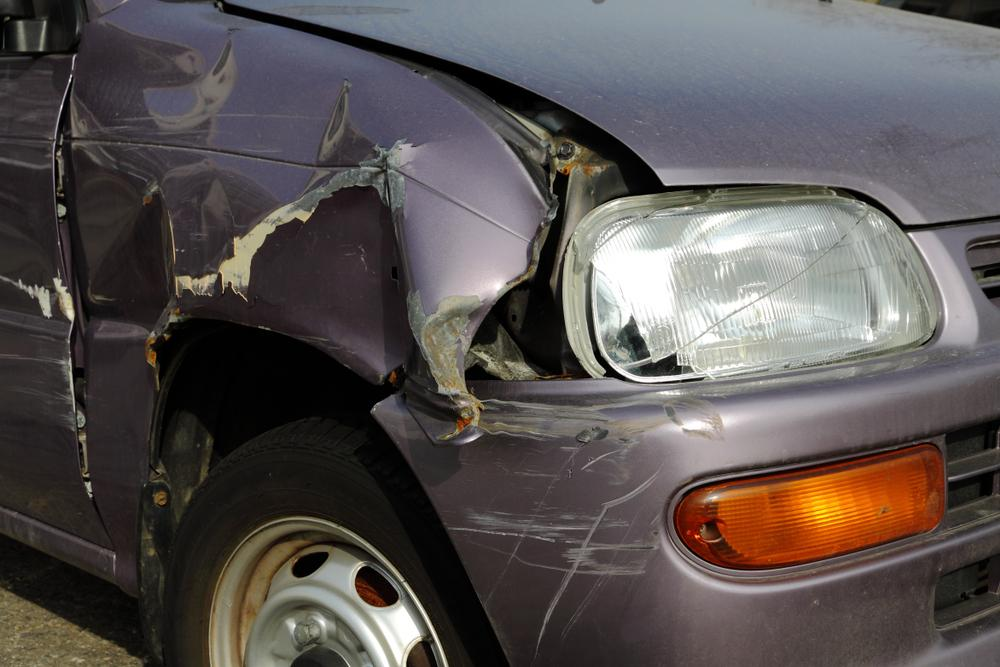dent: (69, 85, 484, 392)
lamp broken: (566, 184, 945, 382)
scratch: (448, 396, 736, 660), (0, 267, 78, 441)
